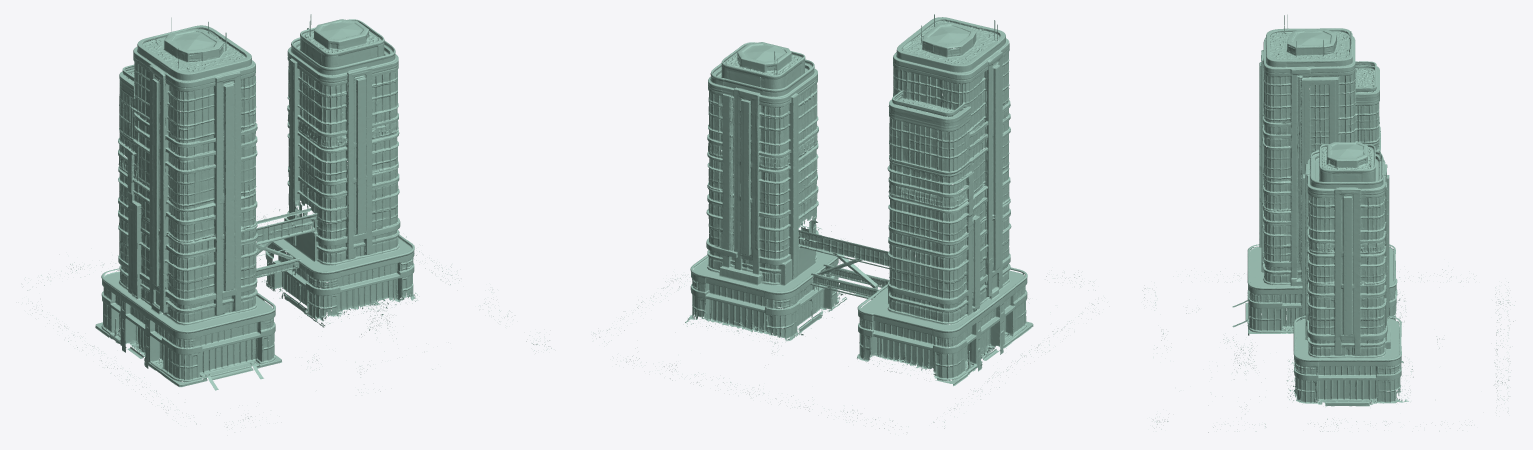
The model's file is cyberpunk-block-01-building-0.glb.
3 renders of one model, left to right at view 1: azimuth 30°, elevation 25°; view 2: azimuth 150°, elevation 25°; view 3: azimuth 270°, elevation 25°, orthographic. The views are drawn at different scales.
Visible parts, largest first — view 1: building_0; view 2: building_0; view 3: building_0.
Part boxes in pixels (x1,y1,x2,y2): building_0: [25, 14, 551, 427]; building_0: [593, 14, 1098, 428]; building_0: [1142, 14, 1514, 432].
Bounding box in the file's own units: 1.87 × 1.56 × 1.85.
